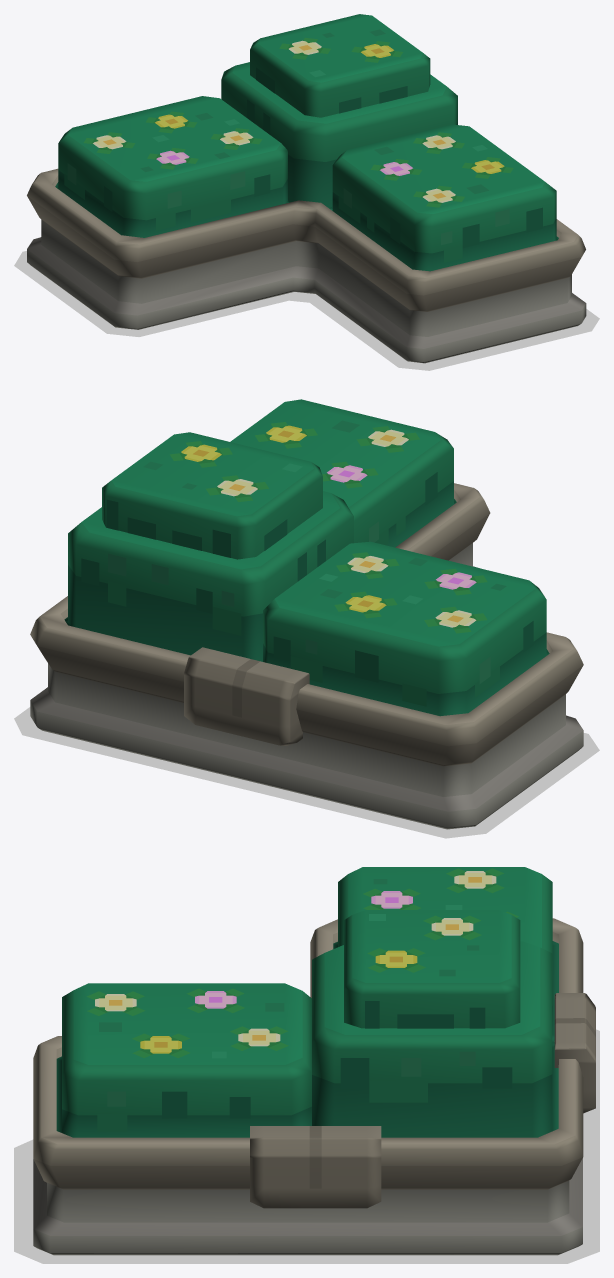
File: MG_flower_L_small.fbx
3 views of the same model, one above another, from view 1: azimuth 30°, elevation 25°; view 2: azimuth 150°, elevation 25°; view 3: azimuth 270°, elevation 25° (orthographic). The views are drawn at different scales.
Visible parts, largest first — view 1: model, ground; view 2: model, ground; view 3: model, ground.
Boxes of the visible parts, box(x1,y1,x2,y2) form: model: box(27, 14, 586, 363); ground: box(14, 251, 599, 370); model: box(30, 399, 583, 829); ground: box(14, 707, 599, 838); model: box(33, 867, 595, 1255); ground: box(14, 1029, 599, 1263).
Bounding box in the file's own units: 9.82 × 4.62 × 9.88.
